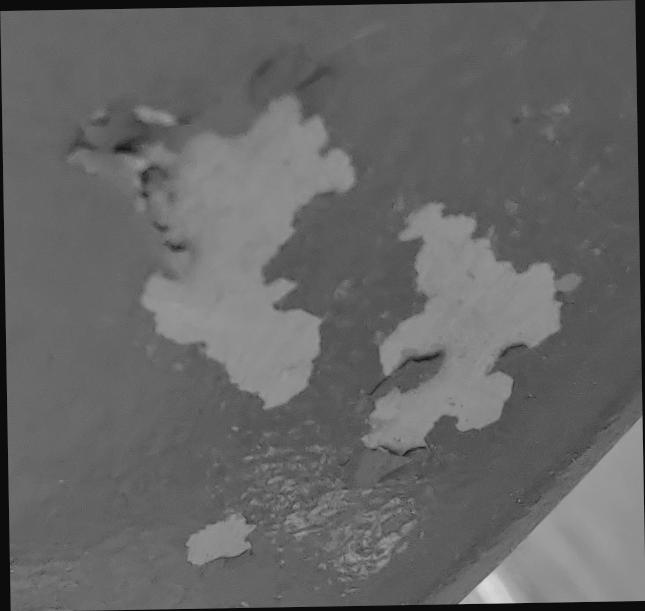paint-off: (1, 0, 645, 610)
